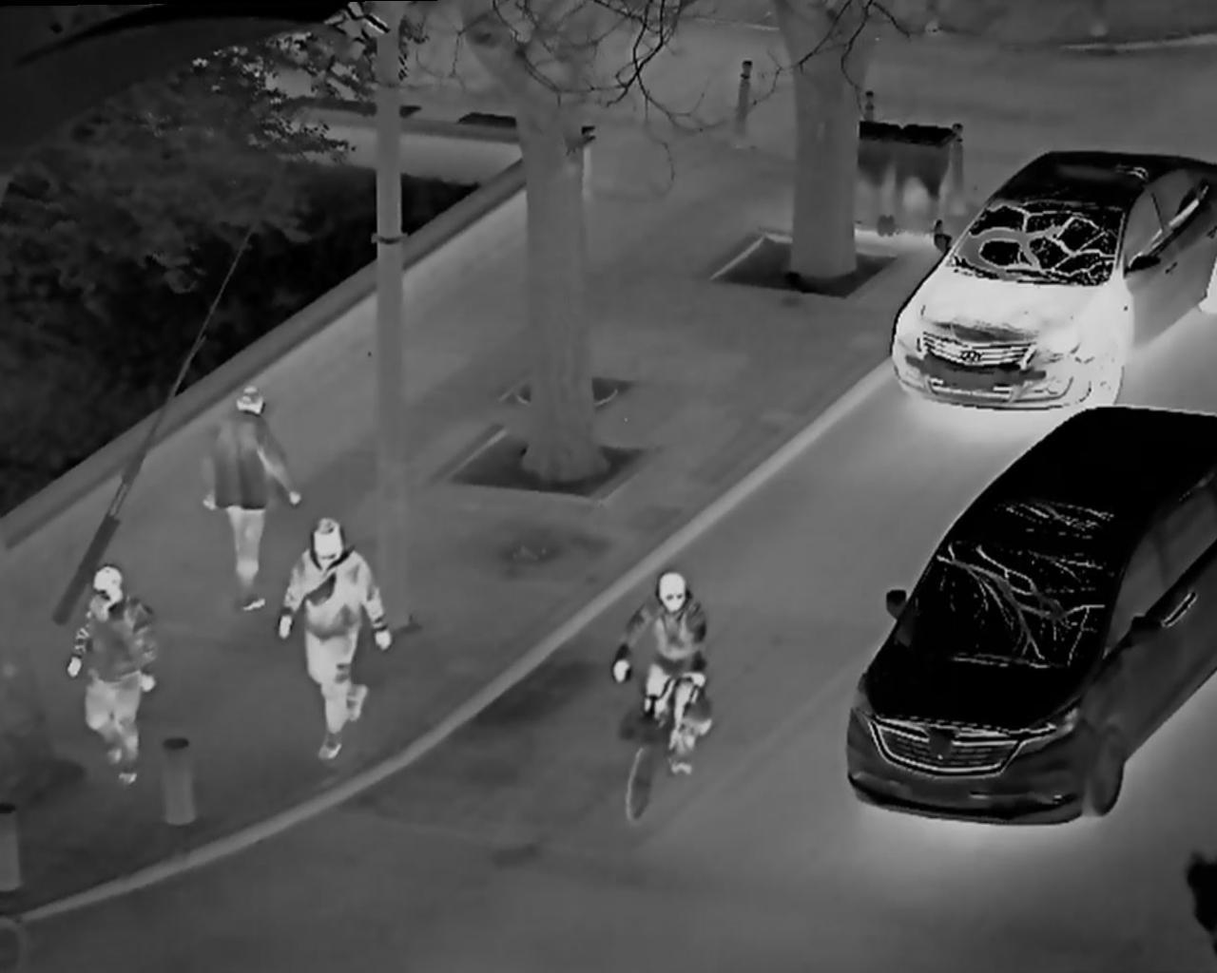person: (278, 509, 393, 768), (191, 378, 303, 629), (617, 567, 733, 801), (66, 554, 158, 784)
